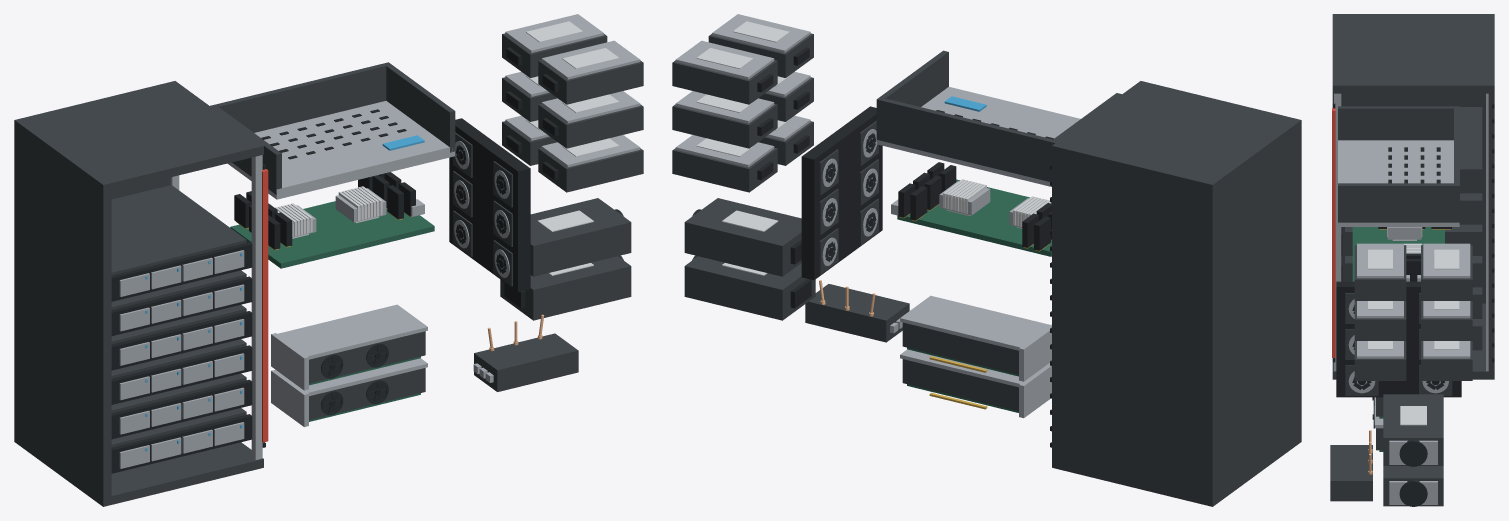
Rendered from cocometric-shape-revision.glb.
3 renders of one model, left to right at view 1: azimuth 30°, elevation 25°; view 2: azimuth 150°, elevation 25°; view 3: azimuth 270°, elevation 25°, orthographic. The views are drawn at different scales.
Parts seen in each view (by area): view 1: Rack_Left_Side, Rack_Top, Exploded_Chassis_Base, Installed_Server_5, Fan_Wall, Exploded_Chassis_Back, PSU_0, Motherboard, Rack_Bottom, PSU_1, GPU_1_Backplate, NIC_Router_Body (+31 smaller); view 2: Rack_Back, Rack_Left_Side, Rack_Top, Exploded_Chassis_Back, Fan_Wall, PSU_0, PSU_1, Exploded_Chassis_Base, GPU_1_Backplate, NIC_Router_Body, Motherboard, GPU_1_Body (+16 smaller); view 3: Rack_Top, Exploded_Chassis_Base, Exploded_Chassis_Right, Exploded_Chassis_Left, Rack_Left_Side, Fan_Wall, PSU_0, NIC_Router_Body, Installed_Server_5, Rack_Back, Drive_0_1, Drive_0_0 (+40 smaller).
Part boxes in pixels (x1,y1,x2,y2): Rack_Left_Side: [14, 118, 111, 506]; Rack_Top: [14, 81, 263, 191]; Exploded_Chassis_Base: [227, 101, 454, 199]; Installed_Server_5: [111, 185, 246, 275]; Fan_Wall: [449, 118, 530, 291]; Exploded_Chassis_Back: [210, 62, 386, 132]; PSU_0: [530, 198, 631, 276]; Motherboard: [230, 201, 434, 268]; Rack_Bottom: [14, 433, 263, 506]; PSU_1: [500, 256, 631, 320]; GPU_1_Backplate: [277, 304, 427, 359]; NIC_Router_Body: [474, 333, 578, 391]; Rack_Back: [1052, 153, 1215, 497]; Rack_Left_Side: [1204, 118, 1301, 506]; Rack_Top: [1052, 81, 1301, 193]; Exploded_Chassis_Back: [877, 97, 1057, 181]; Fan_Wall: [801, 106, 882, 280]; PSU_0: [684, 198, 801, 276]; PSU_1: [684, 256, 815, 320]; Exploded_Chassis_Base: [877, 87, 1080, 186]; GPU_1_Backplate: [900, 295, 1050, 350]; NIC_Router_Body: [805, 284, 909, 342]; Motherboard: [897, 179, 1051, 256]; GPU_1_Body: [902, 322, 1018, 374]; Rack_Top: [1332, 14, 1494, 93]; Exploded_Chassis_Base: [1338, 140, 1459, 226]; Exploded_Chassis_Right: [1338, 183, 1459, 222]; Exploded_Chassis_Left: [1338, 106, 1459, 140]; Rack_Left_Side: [1332, 14, 1494, 303]; Fan_Wall: [1336, 281, 1461, 397]; PSU_0: [1383, 394, 1443, 465]; NIC_Router_Body: [1330, 445, 1372, 501]; Installed_Server_5: [1460, 107, 1482, 193]; Rack_Back: [1488, 92, 1494, 372]; Drive_0_1: [1354, 245, 1406, 300]; Drive_0_0: [1421, 245, 1472, 300].
Bounding box in the file's own units: 8.02 × 4.4 × 2.23.
